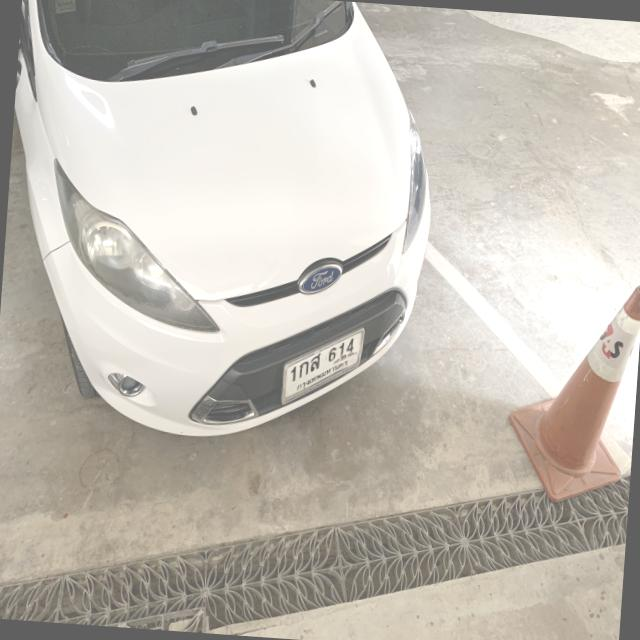license_plate: (279, 317, 368, 416)
